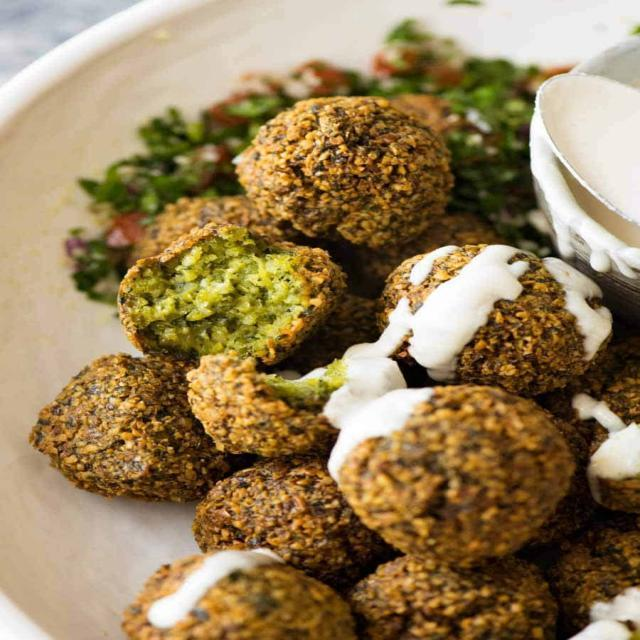flafel: (324, 385, 568, 565), (370, 243, 614, 391), (102, 227, 342, 359), (238, 96, 448, 244), (22, 355, 218, 491), (125, 549, 351, 640)
